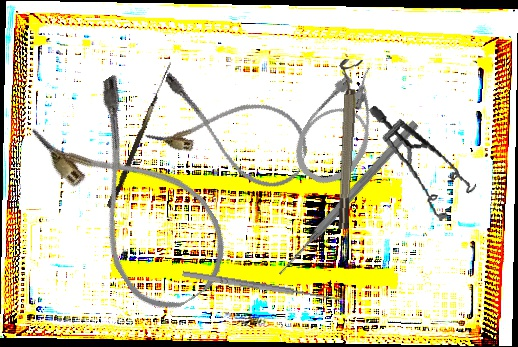Cannula: (27, 70, 246, 325), (142, 67, 318, 197), (282, 55, 406, 196)
Fixation Ring: (328, 58, 363, 230)
Hook Surgical: (106, 59, 172, 210), (181, 263, 345, 305)
Pusher: (274, 118, 421, 279)
Speculum: (368, 92, 482, 230)
